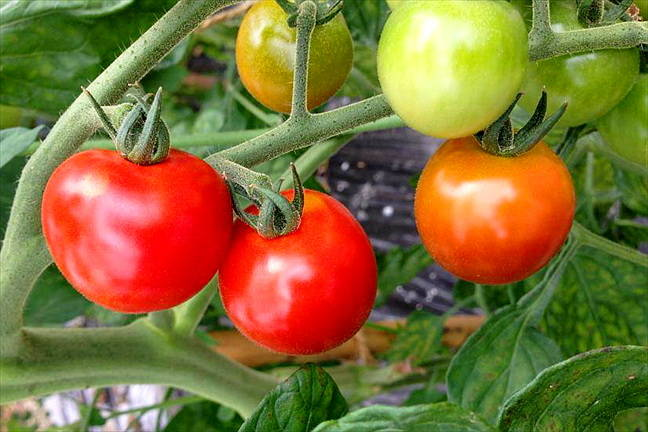stems: (281, 1, 317, 122), (221, 162, 284, 228), (94, 107, 154, 159), (487, 113, 514, 150)
tomato: (42, 147, 235, 311), (217, 188, 378, 356), (415, 123, 576, 281), (377, 1, 530, 138), (236, 1, 354, 113)
